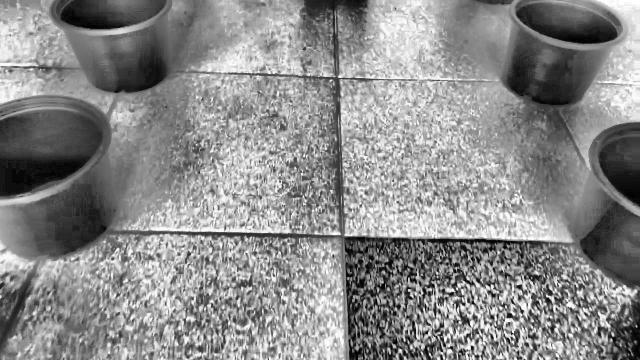pot: (0, 96, 118, 260), (501, 0, 630, 108), (50, 0, 173, 95), (572, 122, 640, 287)
